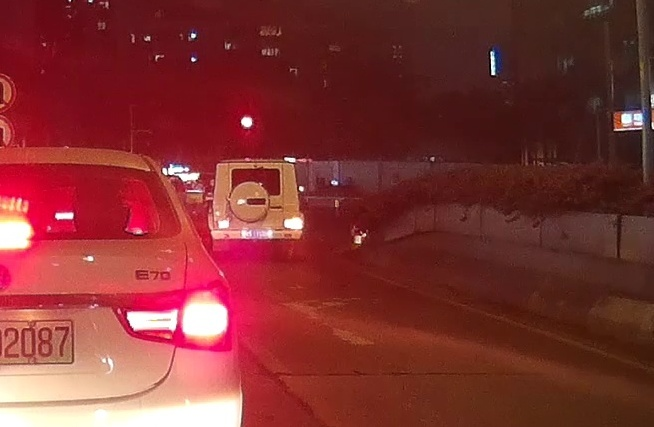L_light: (212, 219, 230, 228)
R_light: (284, 218, 302, 229)
T_light: (248, 169, 263, 174)
night-right: (208, 159, 303, 259)
